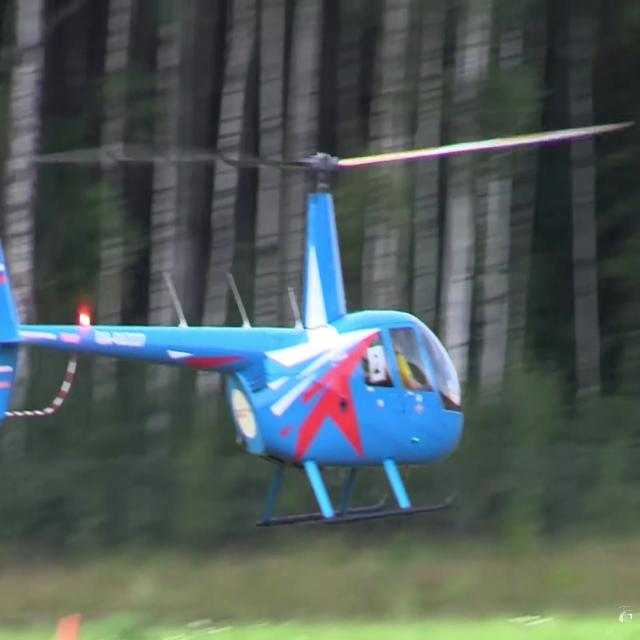CIV_HELO: (0, 149, 465, 531)
